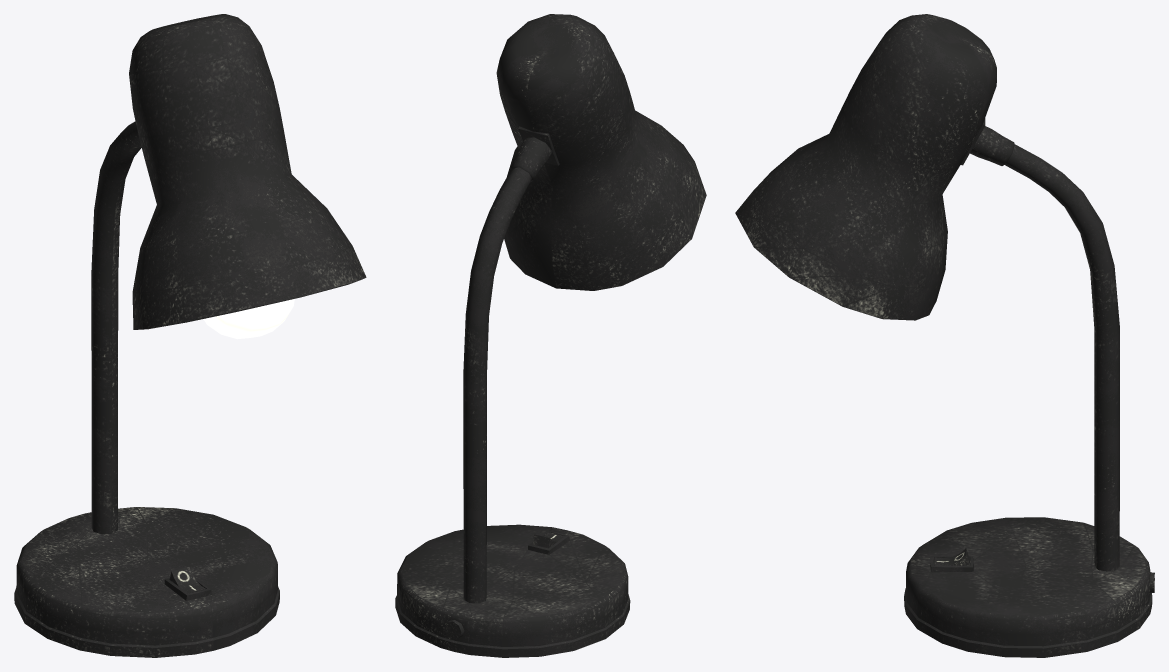
Rendered from lamp.glb.
3 views of the same model, side by side, from view 1: azimuth 30°, elevation 25°; view 2: azimuth 150°, elevation 25°; view 3: azimuth 270°, elevation 25° (orthographic). The views are drawn at different scales.
Visible parts, largest first — view 1: Object_2; view 2: Object_2; view 3: Object_2.
Part boxes in pixels (bbox=[...]): Object_2: bbox=[14, 14, 366, 657]; Object_2: bbox=[395, 14, 706, 657]; Object_2: bbox=[735, 14, 1154, 657].
Size of the model in its own units: 4.93 by 12.9 by 8.39.
Materials: 1 (1 with a texture image).
